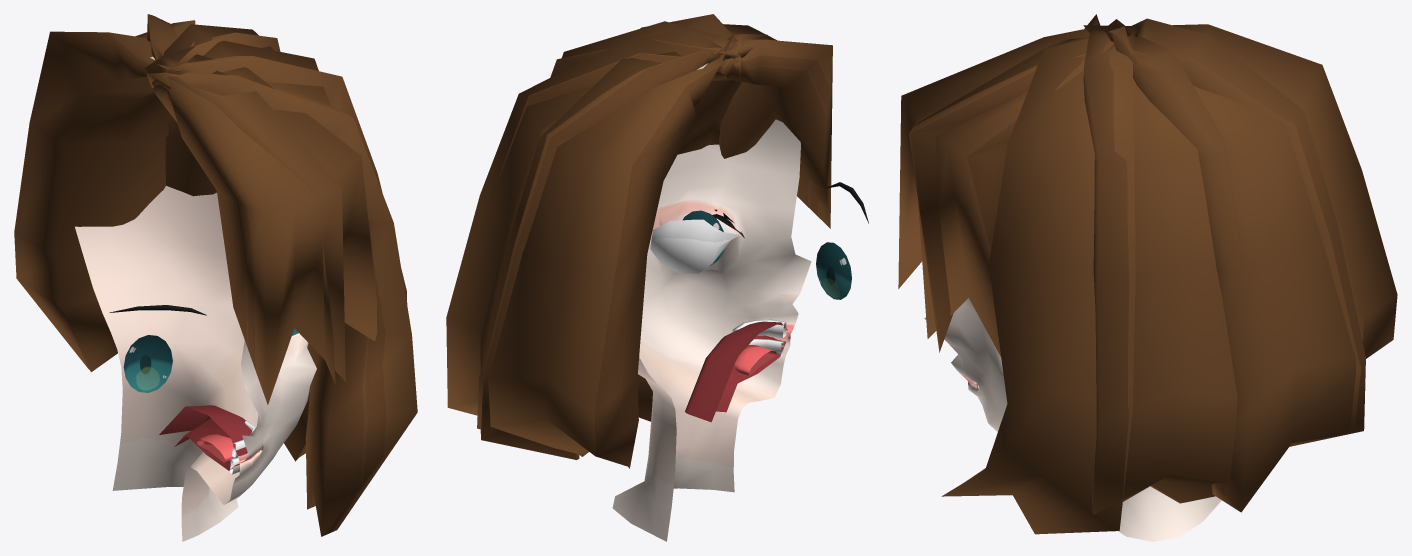
The model's file is Character.glb.
3 renders of one model, left to right at view 1: azimuth 30°, elevation 25°; view 2: azimuth 150°, elevation 25°; view 3: azimuth 270°, elevation 25°, orthographic. The views are drawn at different scales.
Parts seen in each view (by area): view 1: Hair, Head; view 2: Hair, Head; view 3: Hair, Head.
Part boxes in pixels (left/top/right/bottom): Hair: left=14, top=14, right=417, bottom=536; Head: left=75, top=57, right=316, bottom=541; Hair: left=446, top=14, right=832, bottom=468; Head: left=612, top=63, right=868, bottom=541; Hair: left=898, top=14, right=1397, bottom=534; Head: left=924, top=298, right=1221, bottom=541.
Size of the model in its own units: 0.9483 by 1.27 by 1.2.
2 materials, 2 textured.
